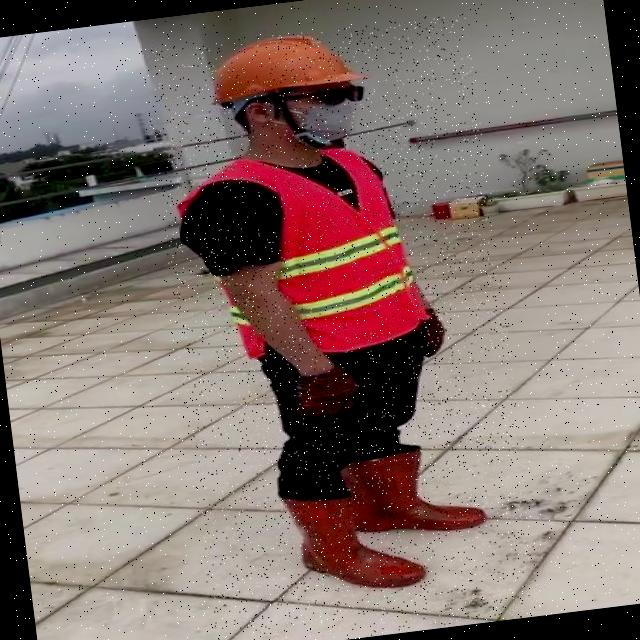boots: (277, 480, 428, 600), (335, 442, 490, 542)
helmet: (197, 24, 367, 106)
vest: (174, 139, 430, 368)
